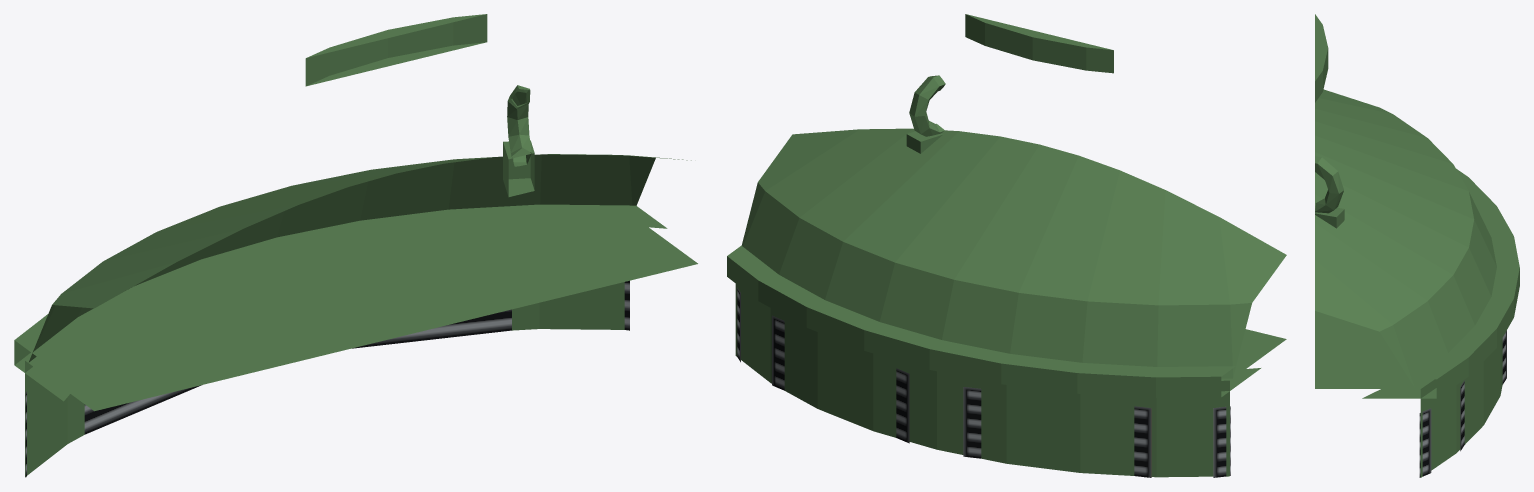
The model's file is cell_62.obj.
3 views of the same model, side by side, from view 1: azimuth 30°, elevation 25°; view 2: azimuth 150°, elevation 25°; view 3: azimuth 270°, elevation 25° (orthographic). The views are drawn at different scales.
Size of the model in its own units: 1 by 0.6618 by 0.3858.
